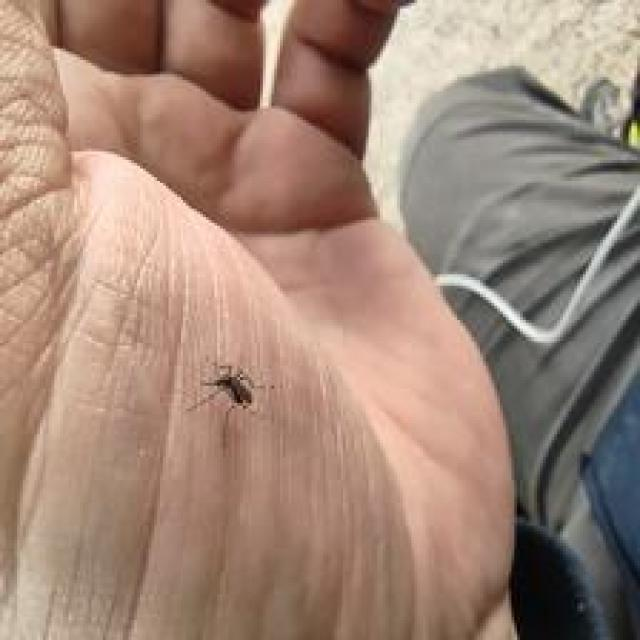Aedes albopictus: (186, 361, 266, 416)
